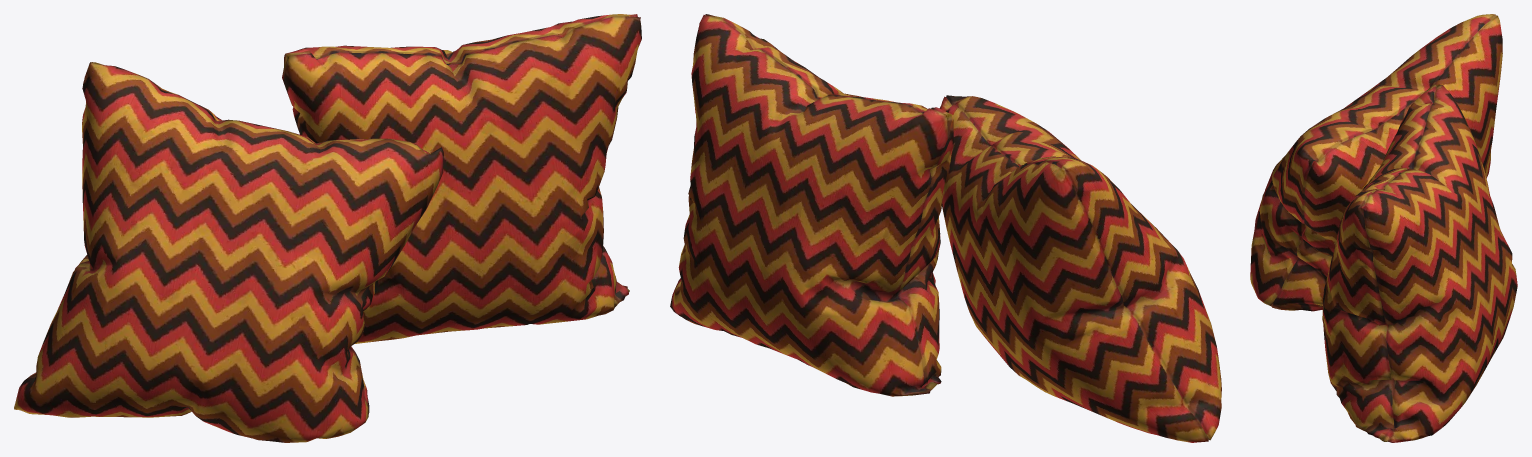
Rendered from throw_pillows_01.glb.
The picture shows the model from 3 angles, left to right: view 1: azimuth 30°, elevation 25°; view 2: azimuth 150°, elevation 25°; view 3: azimuth 270°, elevation 25°; orthographic projection. The views are drawn at different scales.
Parts seen in each view (by area): view 1: throw_pillows_01_pillow01, throw_pillows_01_pillow02; view 2: throw_pillows_01_pillow02, throw_pillows_01_pillow01; view 3: throw_pillows_01_pillow02, throw_pillows_01_pillow01.
Boxes of the visible parts, <box> form: throw_pillows_01_pillow01: <box>14,62,443,442</box>; throw_pillows_01_pillow02: <box>282,14,641,343</box>; throw_pillows_01_pillow02: <box>670,14,953,396</box>; throw_pillows_01_pillow01: <box>939,95,1221,442</box>; throw_pillows_01_pillow02: <box>1322,84,1517,442</box>; throw_pillows_01_pillow01: <box>1250,14,1502,311</box>.
Size of the model in its own units: 0.9401 by 0.4502 by 0.4519.
1 material, 1 textured.
